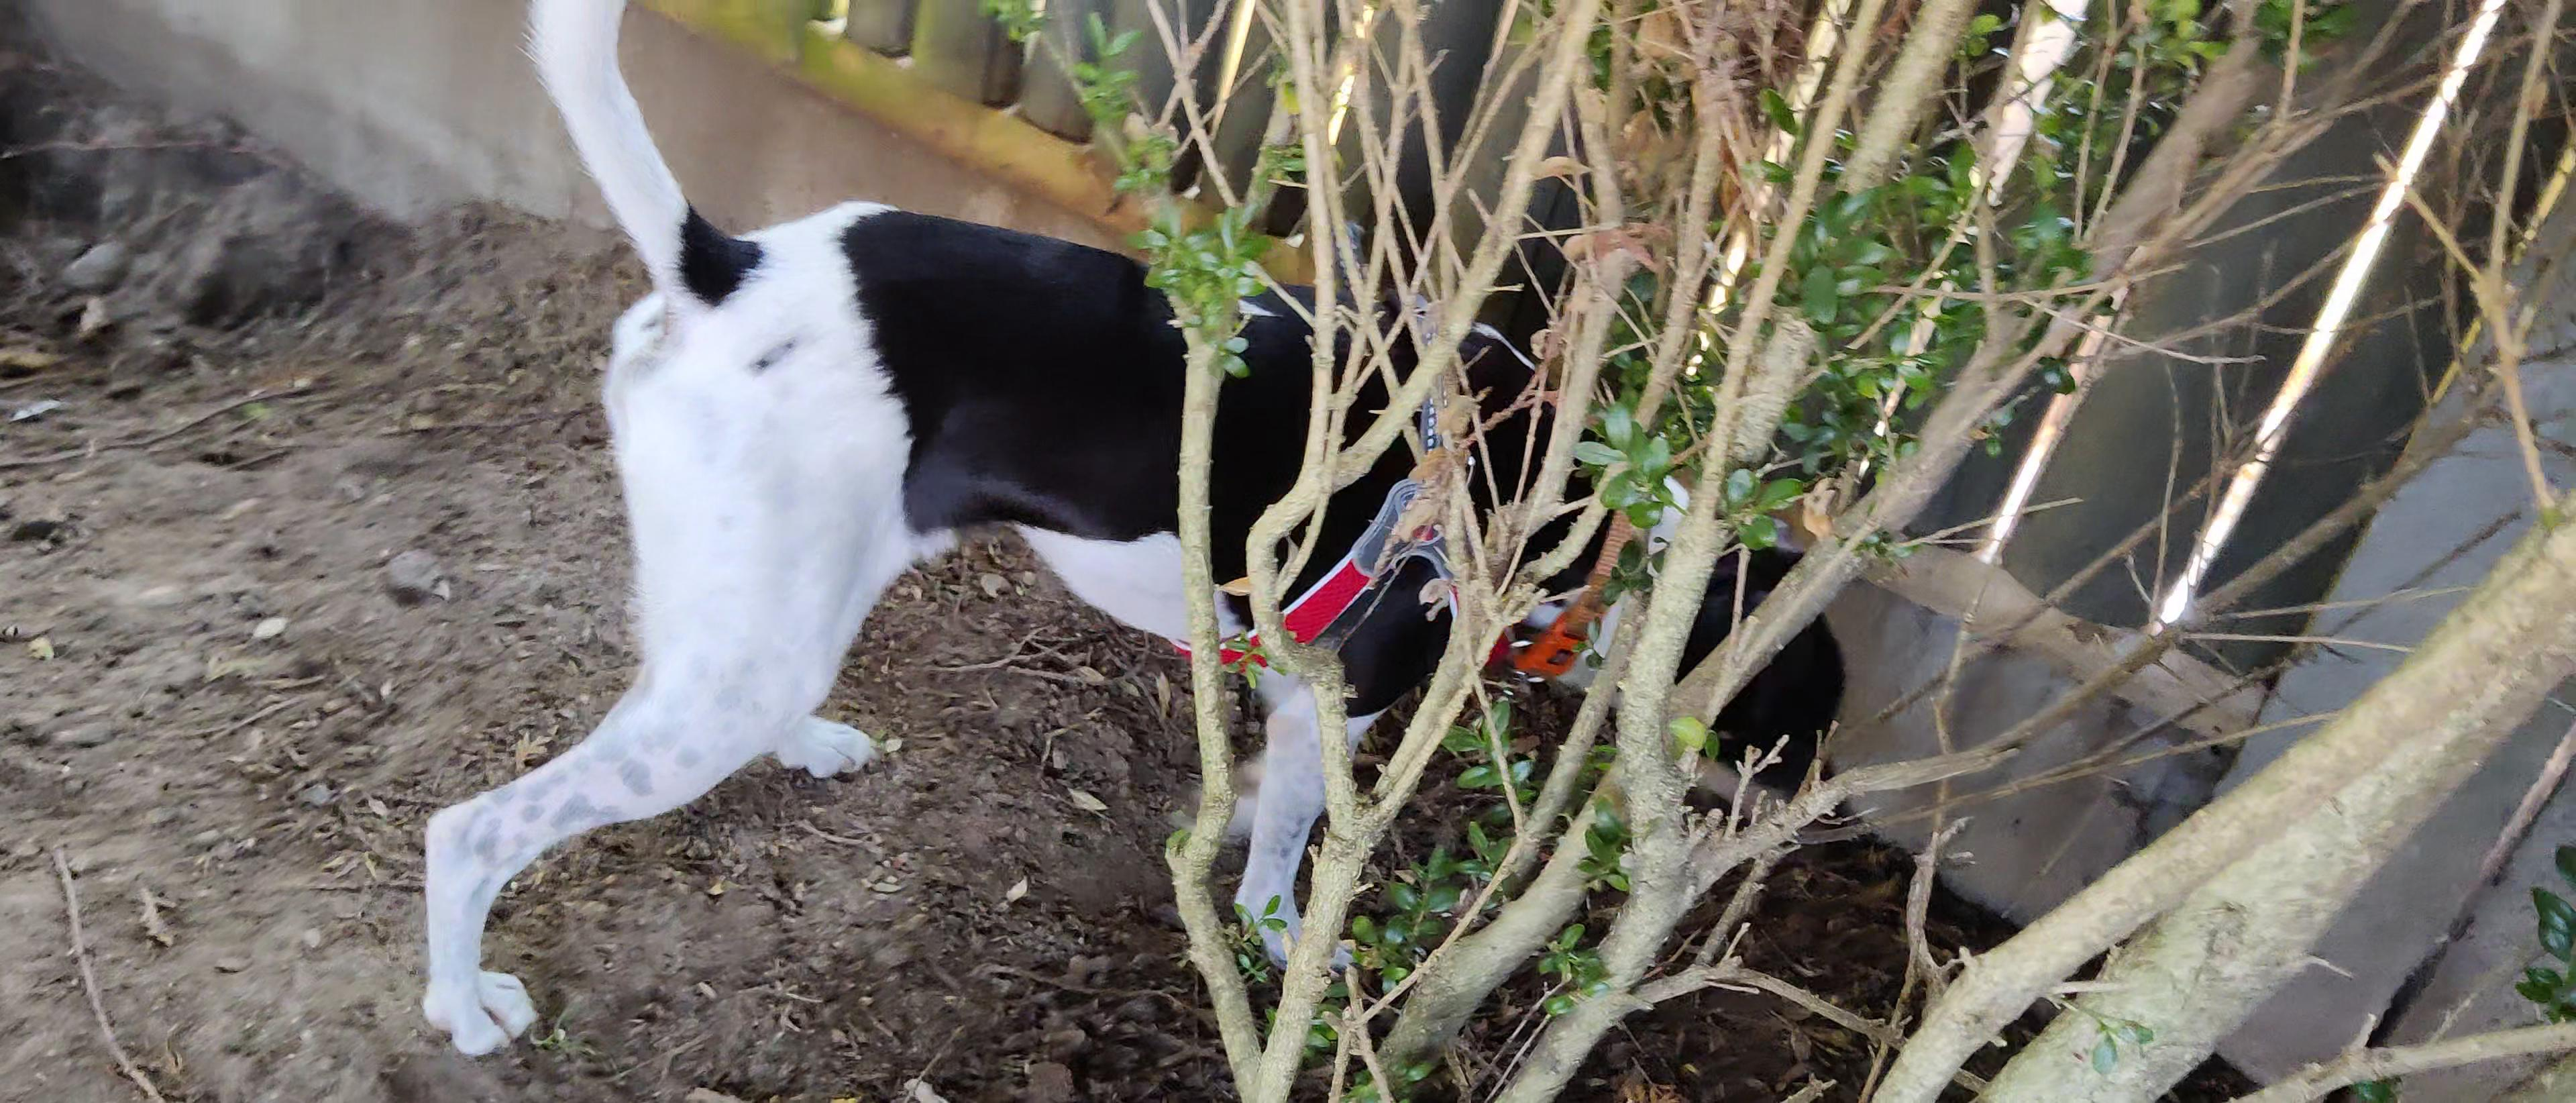Dog: (388, 0, 1883, 1064)
